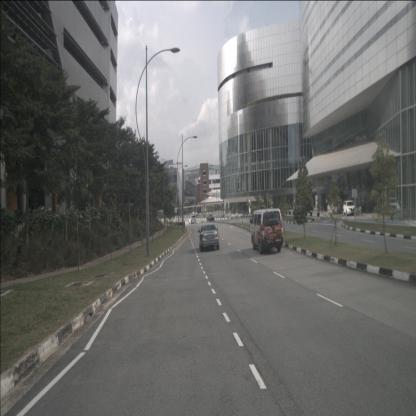vehicle-car: (251, 208, 283, 254), (199, 224, 219, 251), (343, 200, 357, 216), (327, 202, 342, 214), (188, 215, 197, 224), (207, 213, 215, 222), (166, 217, 173, 224)
